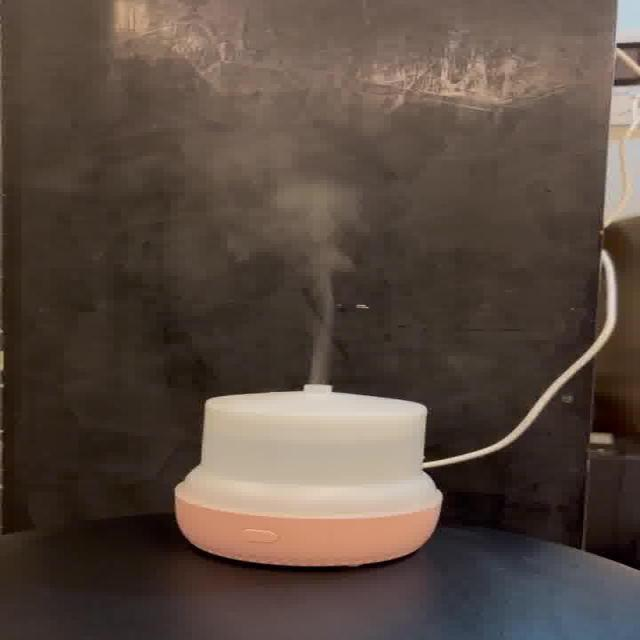fire: (206, 133, 376, 382)
